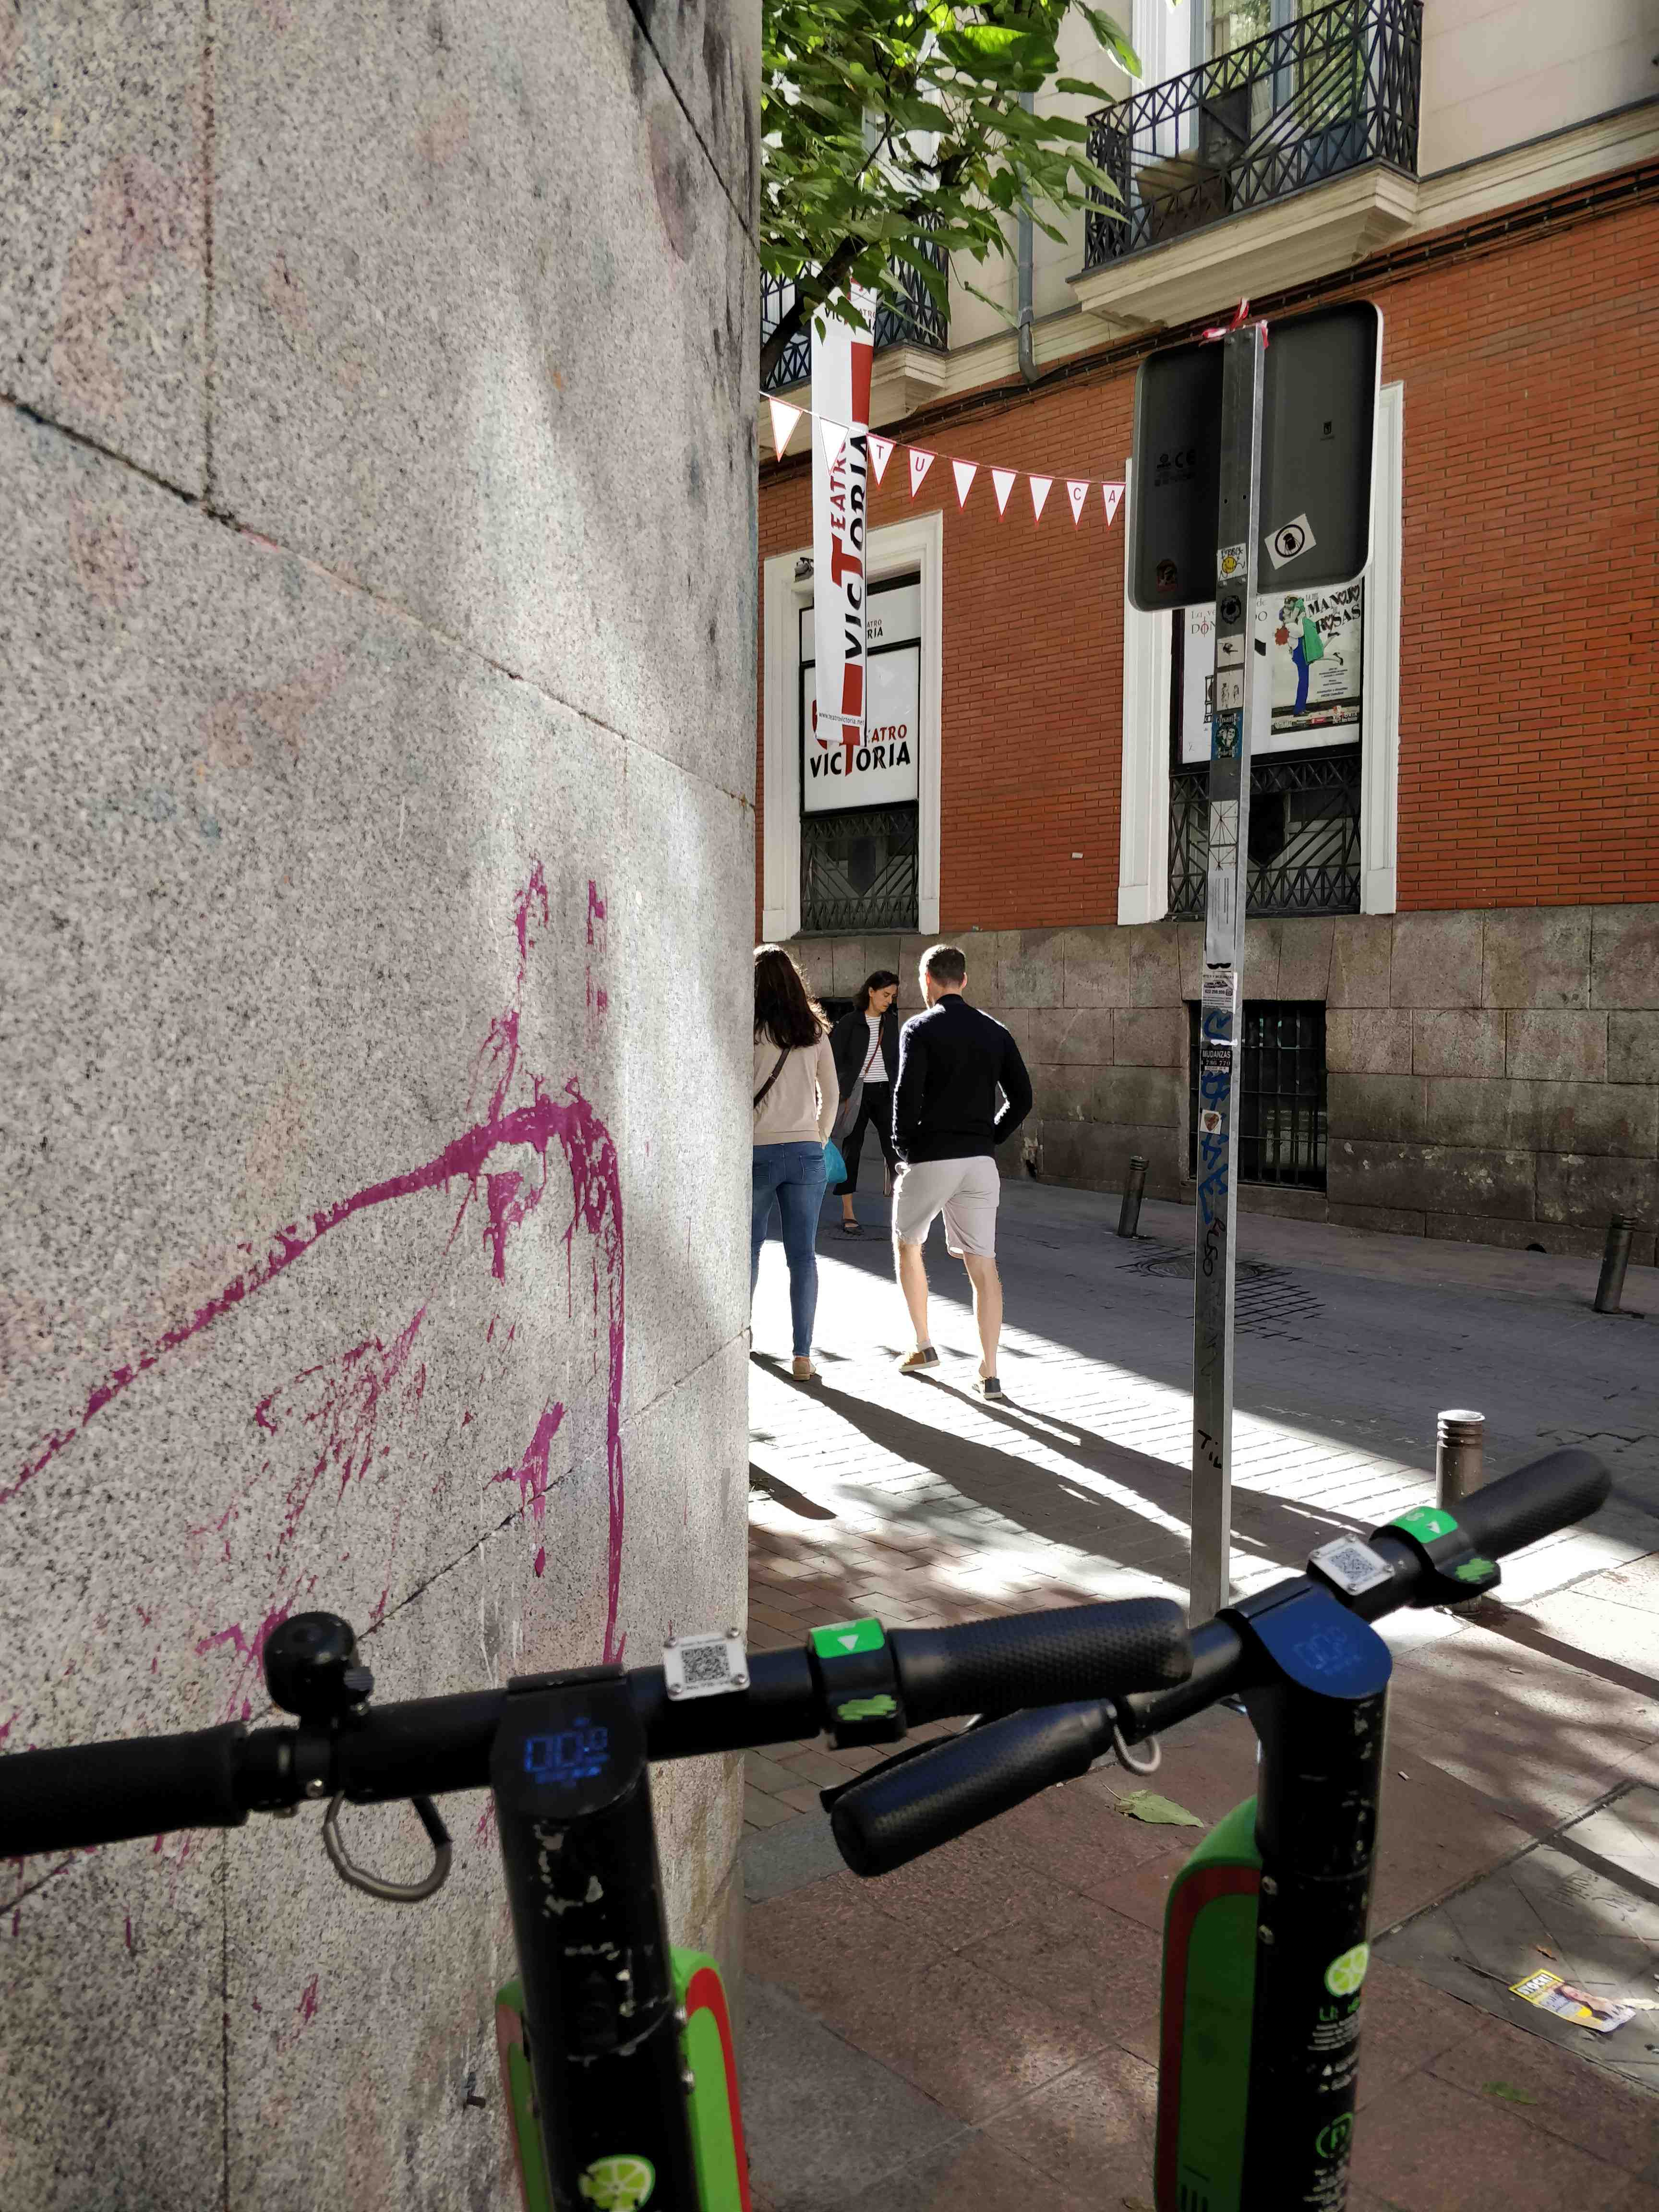scooter: (75, 1522, 1364, 2137)
